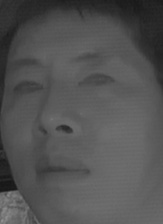eye: (77, 68, 117, 94), (12, 74, 44, 100)
mouth: (31, 152, 93, 189)
